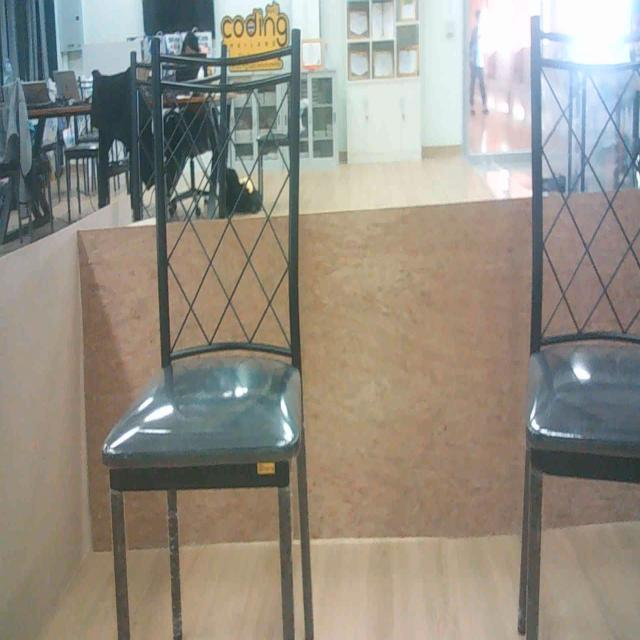emtpy: (107, 44, 306, 640), (512, 2, 640, 640)
